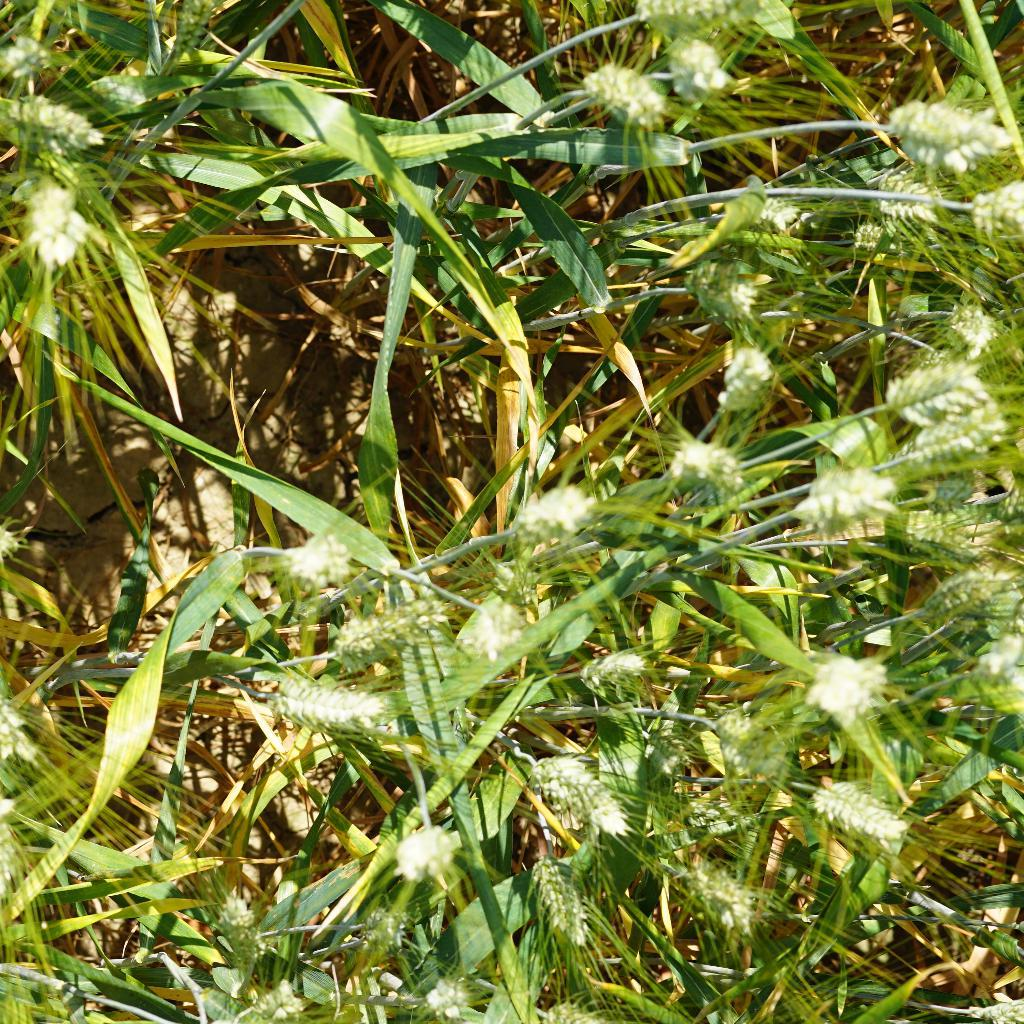0-0: (881, 85, 1021, 172), (509, 747, 645, 834), (795, 772, 923, 852), (527, 840, 615, 955), (497, 471, 623, 544), (657, 845, 759, 933), (273, 679, 400, 746), (325, 597, 449, 665), (904, 557, 1024, 627), (679, 251, 777, 331), (658, 422, 762, 497), (781, 651, 897, 718), (11, 171, 96, 260), (208, 888, 279, 989), (705, 705, 800, 778), (798, 460, 896, 530), (894, 410, 1004, 471), (877, 357, 986, 418), (0, 90, 100, 156), (567, 639, 665, 706), (275, 516, 362, 590), (631, 0, 778, 43), (697, 342, 783, 414), (903, 494, 1013, 549), (380, 808, 455, 885), (157, 0, 261, 55), (580, 58, 664, 123), (466, 590, 533, 664), (963, 620, 1024, 698), (344, 900, 421, 961), (665, 38, 742, 94), (740, 175, 810, 235), (959, 180, 1024, 242), (866, 171, 938, 224), (0, 26, 71, 79), (837, 202, 896, 262), (0, 698, 42, 771), (946, 292, 997, 351), (638, 716, 686, 777), (415, 975, 473, 1024), (0, 818, 24, 912)
